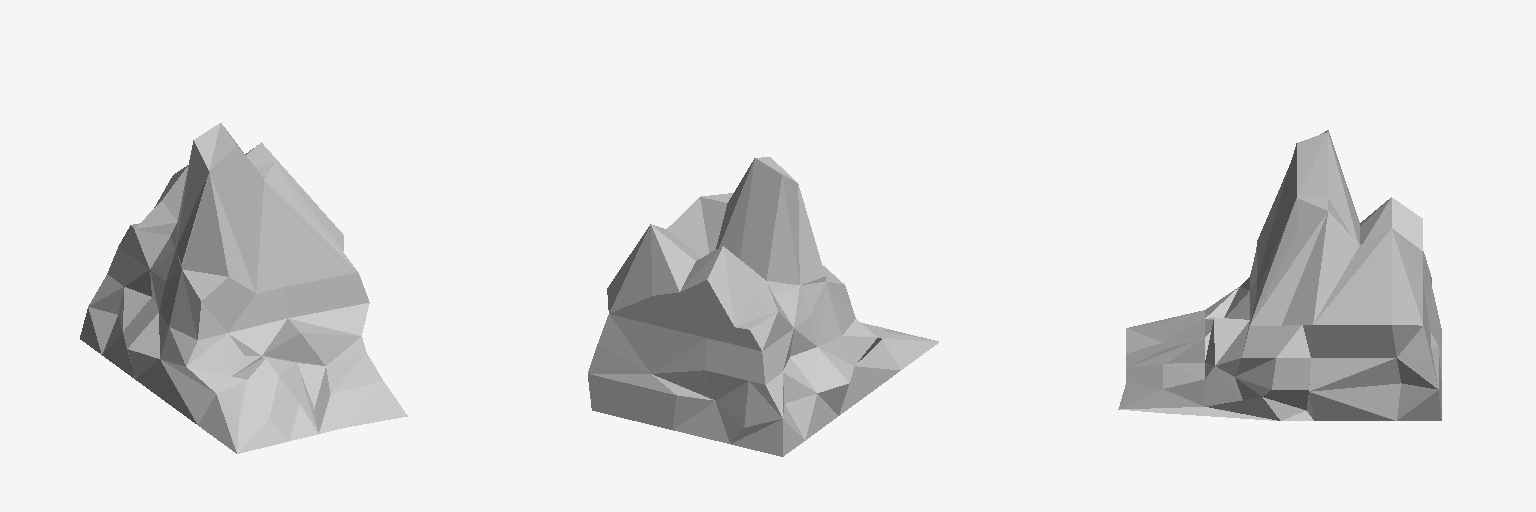
Rendered from iceberg.obj.
3 views of the same model, side by side, from view 1: azimuth 30°, elevation 25°; view 2: azimuth 150°, elevation 25°; view 3: azimuth 270°, elevation 25° (orthographic).
Visible parts, largest first — view 1: pCube1; view 2: pCube1; view 3: pCube1.
Boxes of the visible parts, <box> form: pCube1: <box>80,123,407,453</box>; pCube1: <box>588,157,938,456</box>; pCube1: <box>1118,130,1441,420</box>.
Size of the model in its own units: 17.31 by 18.67 by 23.04.